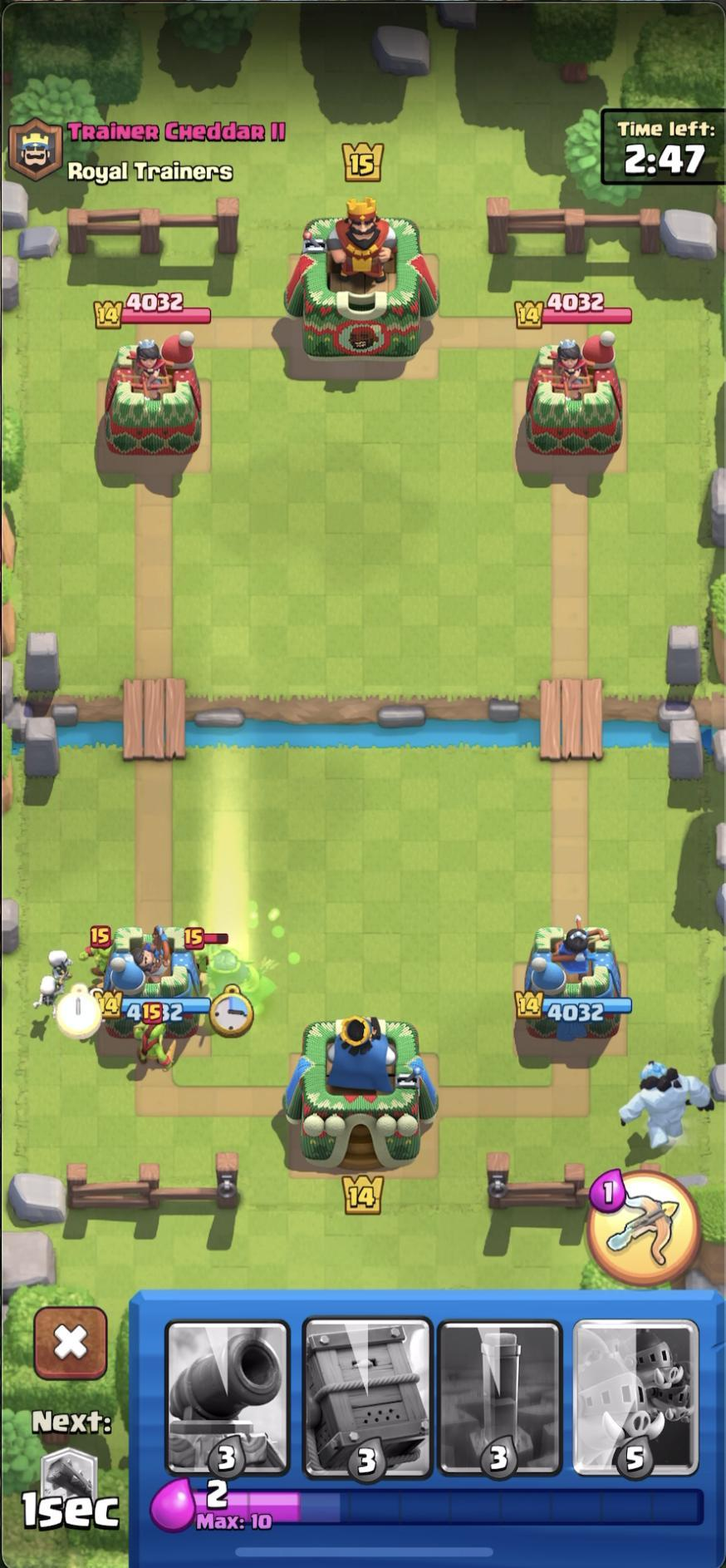card_cannon: (161, 1319, 295, 1478)
card_earthquake: (440, 1316, 567, 1480)
card_log: (19, 1443, 124, 1537)
card_royaldelivery: (300, 1316, 437, 1482)
card_royalhogs: (569, 1316, 709, 1476)
